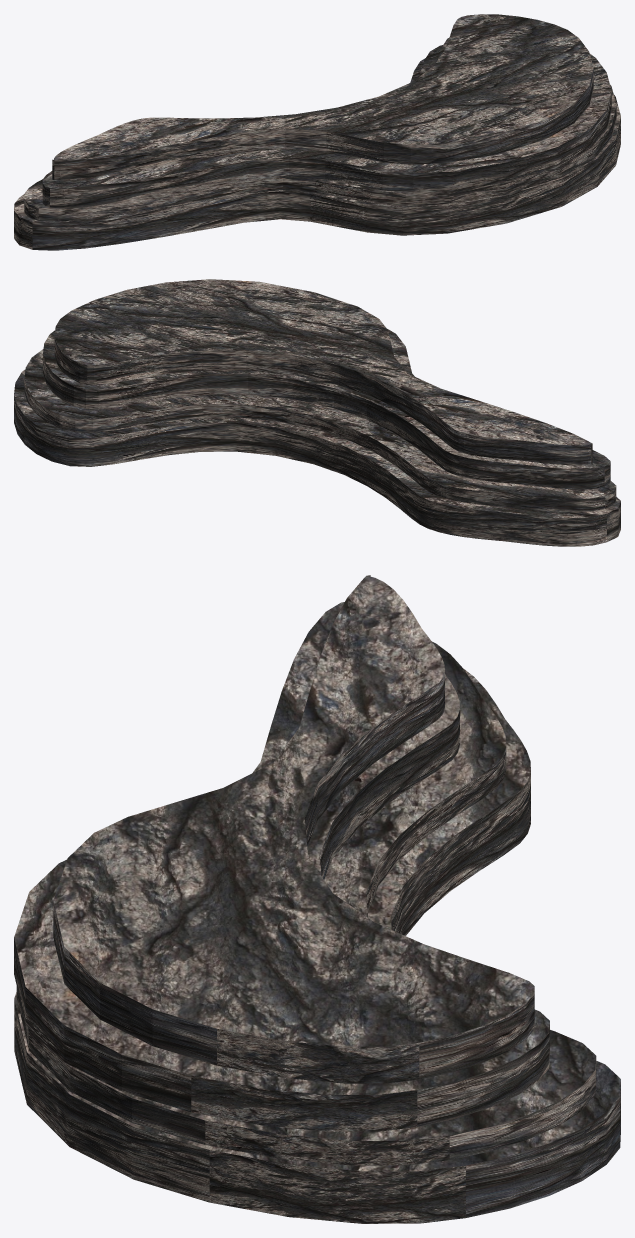
File: rock.FBX
3 views of the same model, one above another, from view 1: azimuth 30°, elevation 25°; view 2: azimuth 150°, elevation 25°; view 3: azimuth 270°, elevation 25° (orthographic). The views are drawn at different scales.
Parts seen in each view (by area): view 1: Line002; view 2: Line002; view 3: Line002.
Part boxes in pixels (box(x1,y1,x2,y2)): Line002: box(14, 14, 620, 250); Line002: box(14, 279, 620, 546); Line002: box(14, 575, 620, 1223).
Size of the model in its own units: 4581 by 614 by 2240.
1 material, 1 textured.
